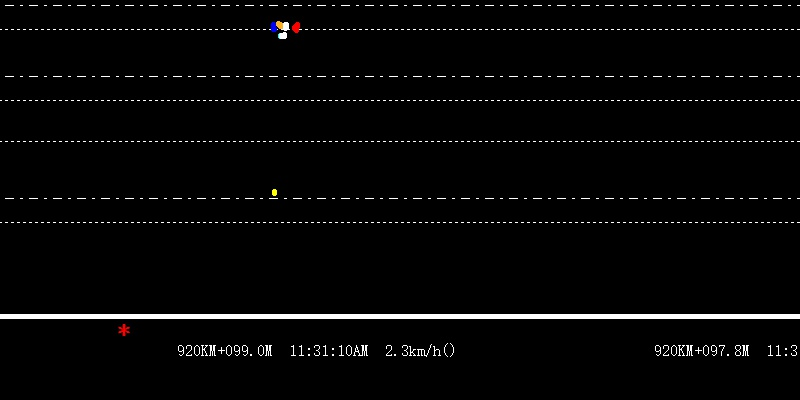face_1: (292, 20, 300, 36)
star: (116, 320, 130, 339)
